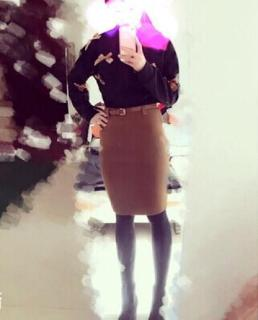long sleeve top: (68, 23, 181, 124)
skirt: (100, 102, 169, 215)
trousers: (101, 107, 172, 292)
